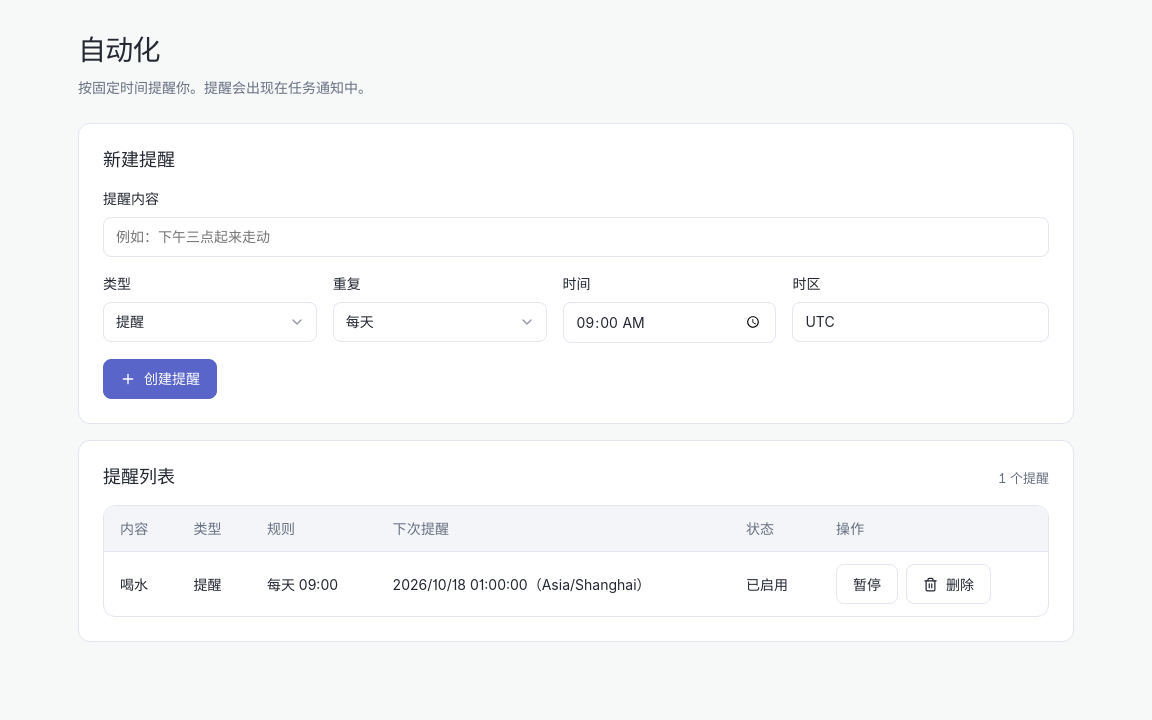
Test: AutomationsPage › creates an execute task with a prompt
Expected: the text "喝水" is shown, [104,552,178,616]
Step 1. Type "每日简报" into the field labelled "提醒内容" → x=576, y=237, box [103,217,1049,257]
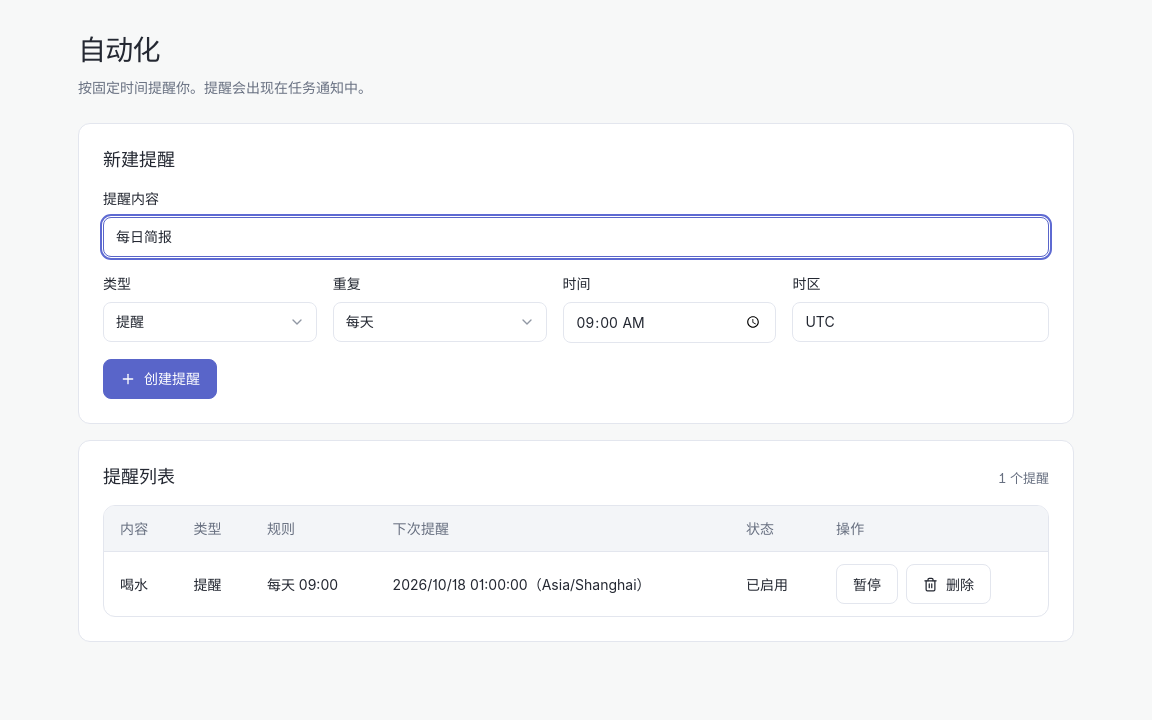
Step 2. Select "执行任务" in the dropdown labelled "类型" → x=210, y=322, box [103,302,317,342]
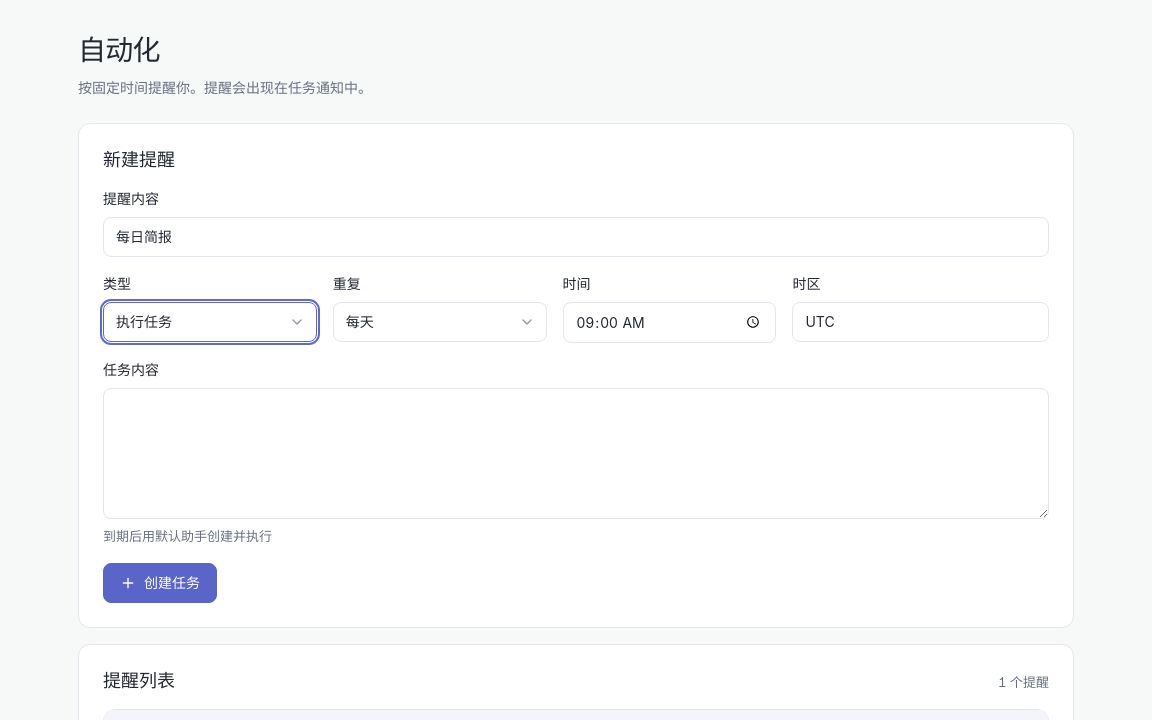
Step 3. Type "整理今天的待办并发给我" into the text box labelled "任务内容" → x=576, y=454, box [103,388,1049,520]
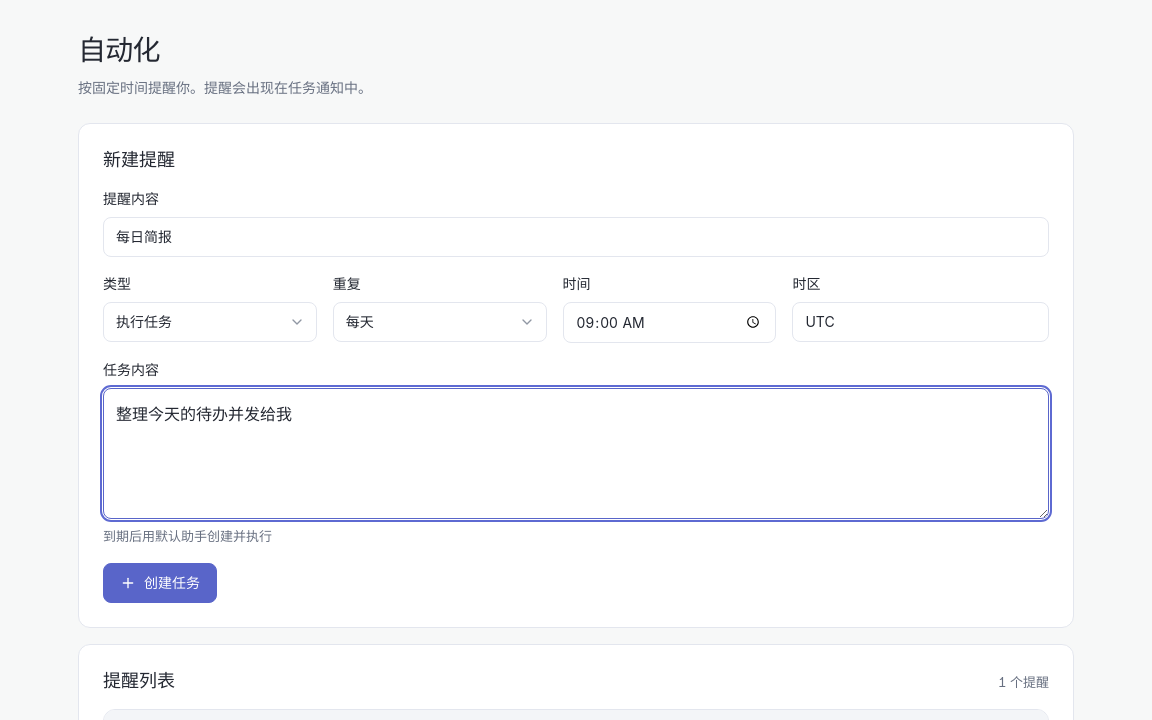
Step 4. Click the button "创建任务" → x=160, y=583, box [103,563,217,603]
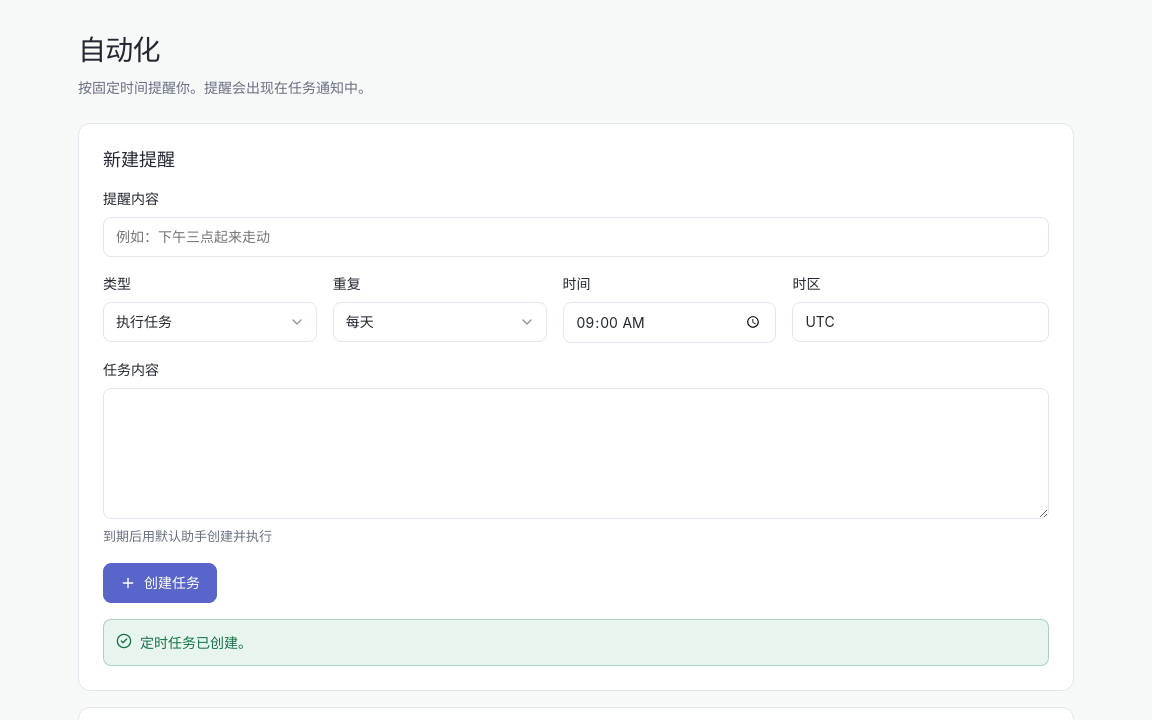
Now the text "定时任务已创建。" is shown, box [140,634,252,651]
